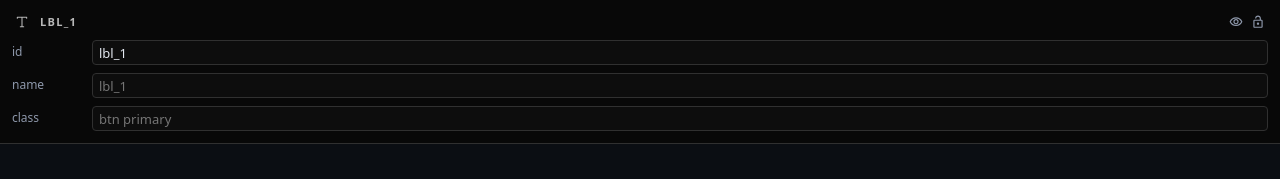
SelectedGroup › reverts id draft when duplicate and does not rename
The image size is (1280, 179).
Replace the text in the field labelled "id" with "lbl_2" at x=680, y=52, box [92,40,1268,65]
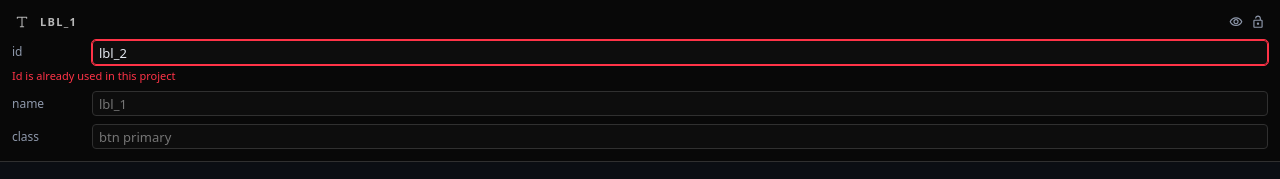
Leave the field labelled "id", box [92,40,1268,65]
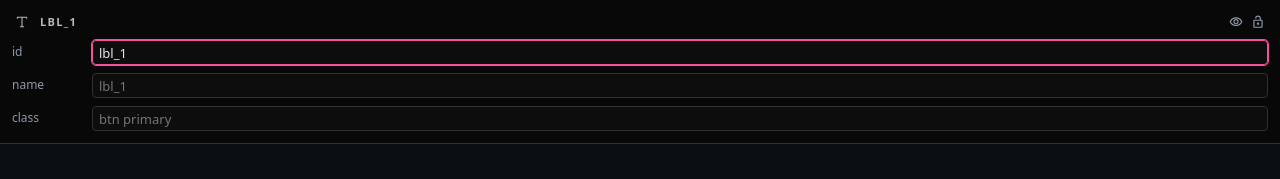
expect the field labelled "id" holds "lbl_1": met, box [92,40,1268,65]
